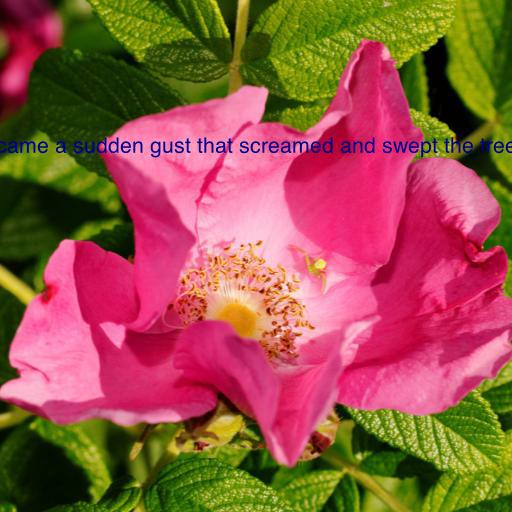SF Pro: (0, 137, 512, 158)
